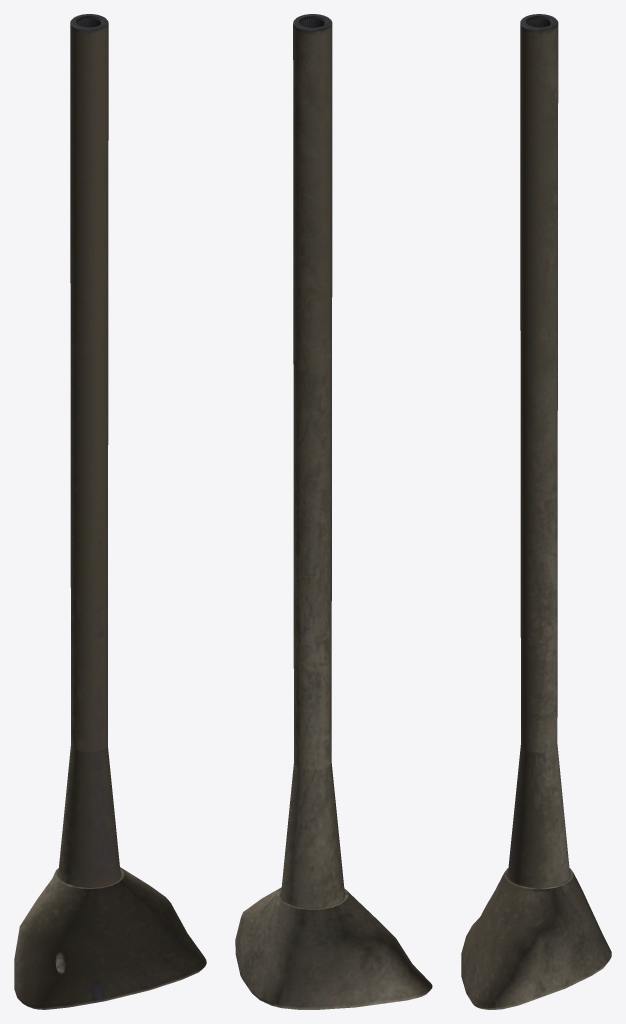
The model's file is Gun_06.glb.
3 renders of one model, left to right at view 1: azimuth 30°, elevation 25°; view 2: azimuth 150°, elevation 25°; view 3: azimuth 270°, elevation 25°, orthographic. The views are drawn at different scales.
Parts seen in each view (by area): view 1: set_0_group_0; view 2: set_0_group_0; view 3: set_0_group_0.
Boxes of the visible parts, x1,y1,x2,y2 form: set_0_group_0: (14, 14, 206, 1009); set_0_group_0: (235, 14, 432, 1009); set_0_group_0: (461, 14, 611, 1009).
Bounding box in the file's own units: 0.8945 × 4.41 × 0.635.
Materials: 1 (1 with a texture image).
